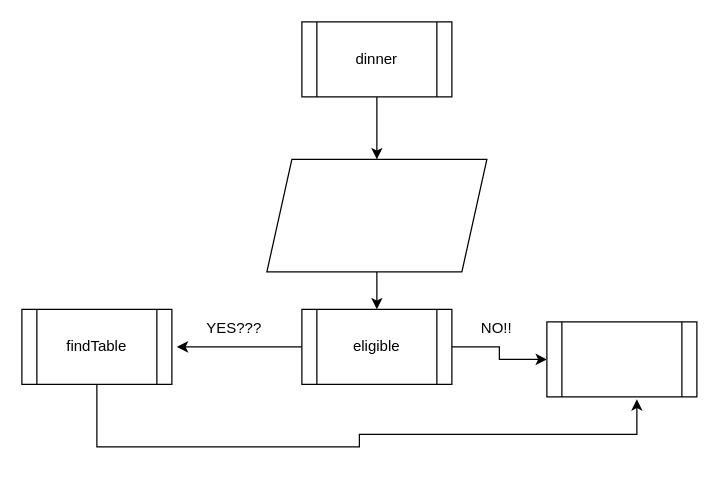
This 719x479 diagram has some shape labels left out. The centre of each missing label's shape, as x and y in pixels:
output: Hello welcome to dinner!: [376,215]
quitProgram: [621,359]
